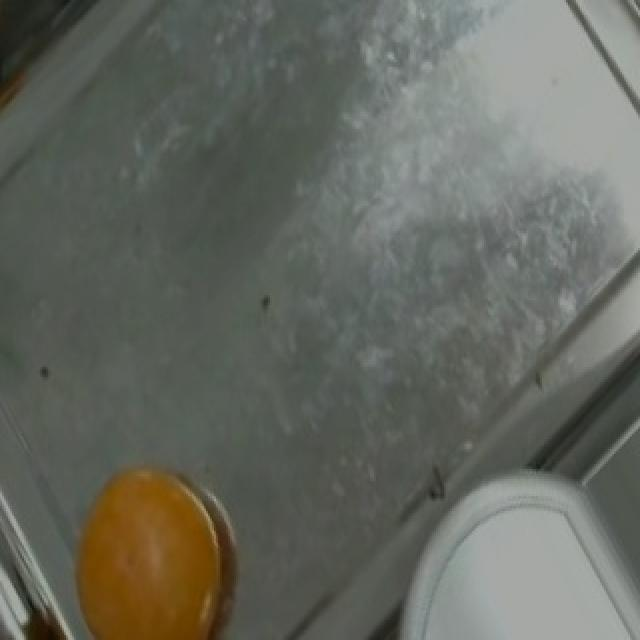Fruit: (44, 439, 248, 640), (400, 476, 640, 640), (586, 0, 640, 151)
